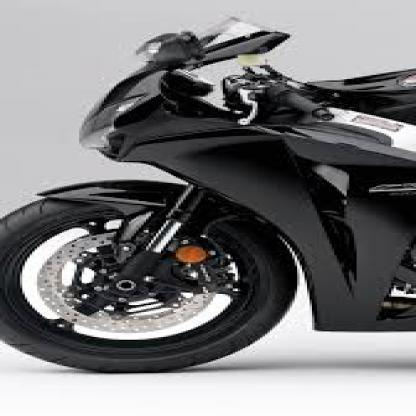Motorcycle: (2, 19, 416, 370)
